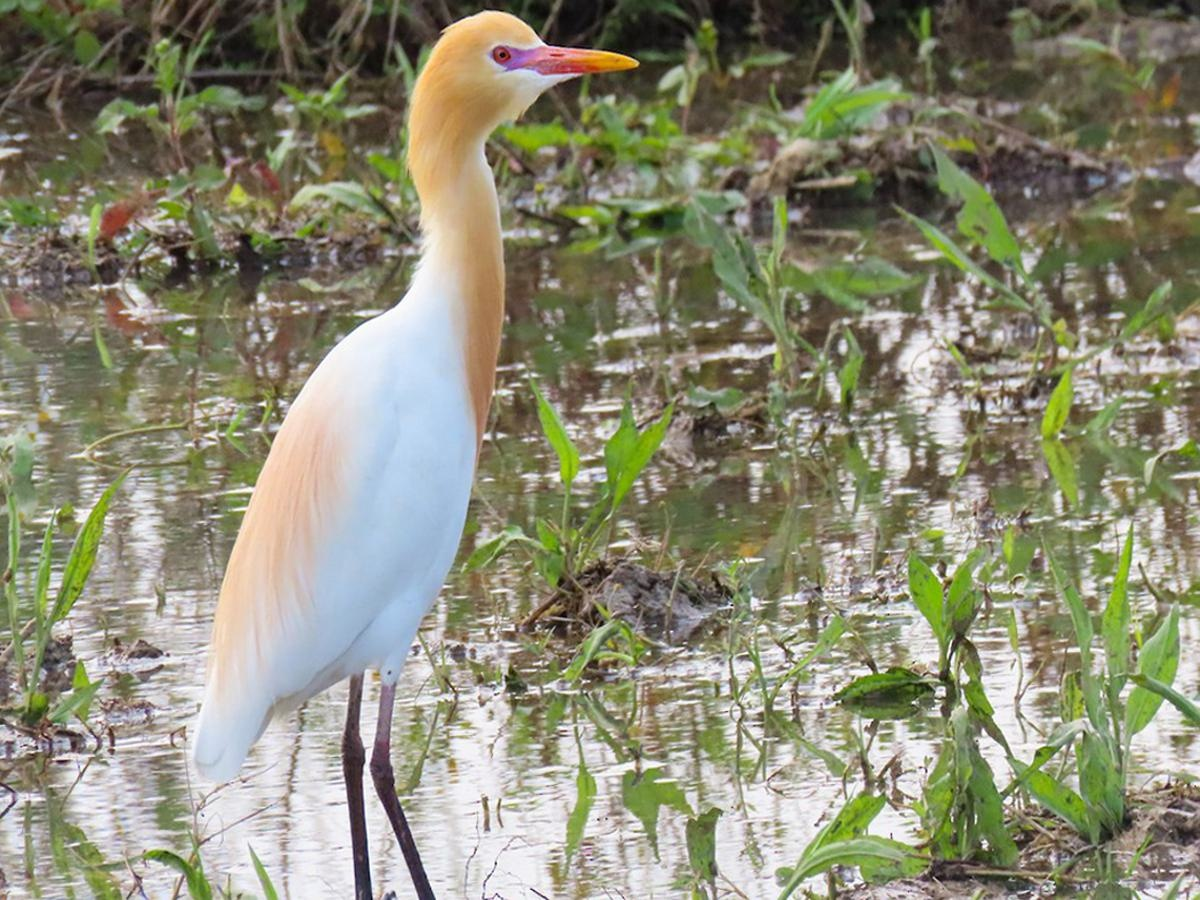egret: (171, 15, 649, 894)
